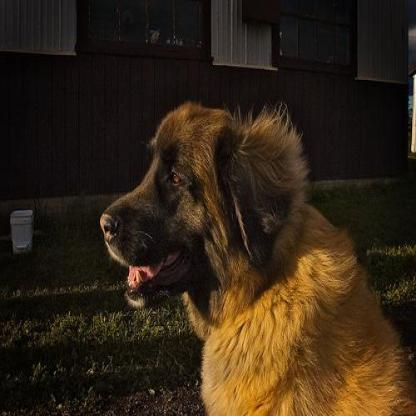Leonberg: (96, 100, 414, 413)
